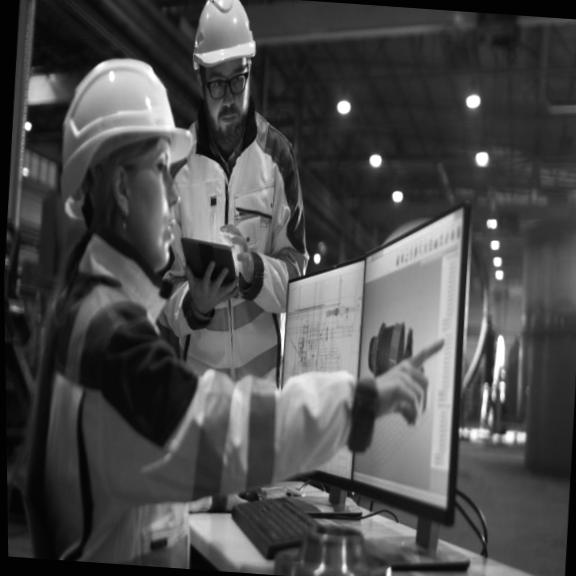safety_vest: (31, 249, 184, 568), (158, 108, 299, 401)
